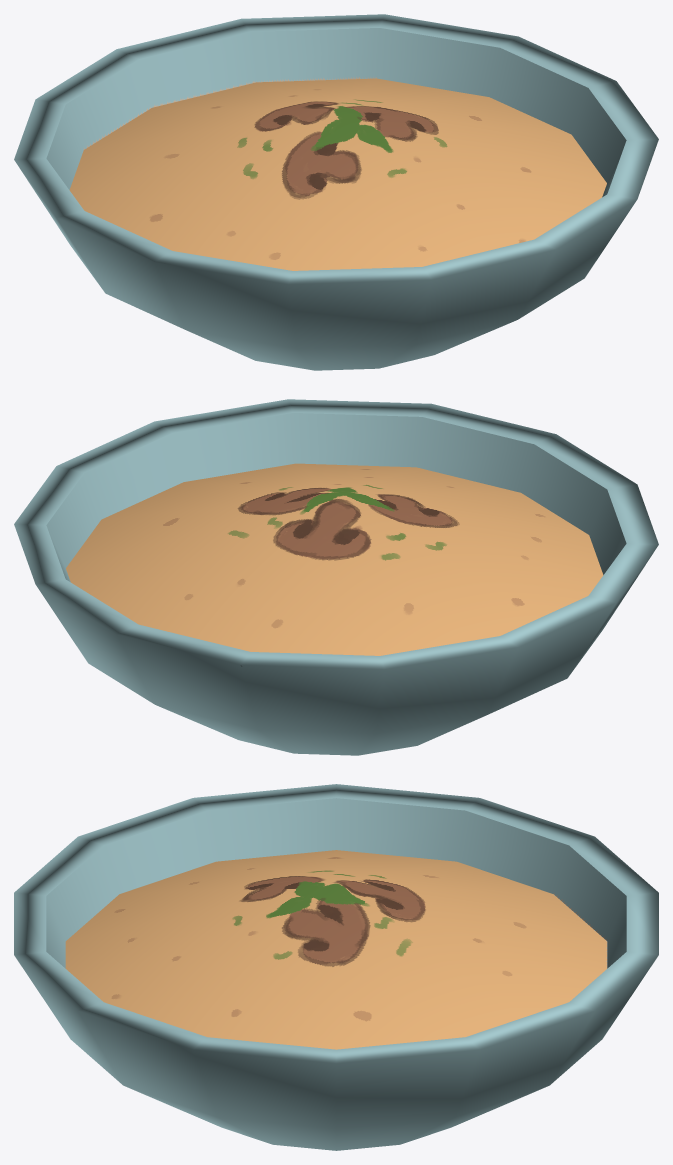
Rendered from mushroom_soup.fbx.
3 views of the same model, one above another, from view 1: azimuth 30°, elevation 25°; view 2: azimuth 150°, elevation 25°; view 3: azimuth 270°, elevation 25° (orthographic). The views are drawn at different scales.
Parts seen in each view (by area): view 1: mushroom soup; view 2: mushroom soup; view 3: mushroom soup.
Part boxes in pixels (bbox=[...]): mushroom soup: bbox=[14, 14, 658, 370]; mushroom soup: bbox=[14, 399, 658, 755]; mushroom soup: bbox=[14, 784, 658, 1150].
Bounding box in the file's own units: 41.82 × 14.28 × 40.77.
1 material, 1 textured.
